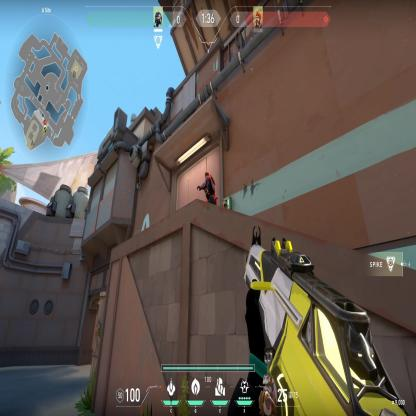enemy: (195, 171, 218, 206)
